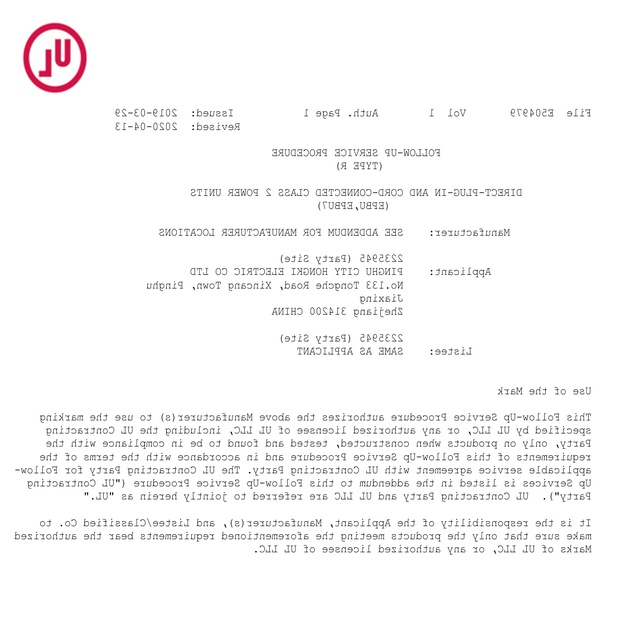ul: (20, 20, 88, 94)
